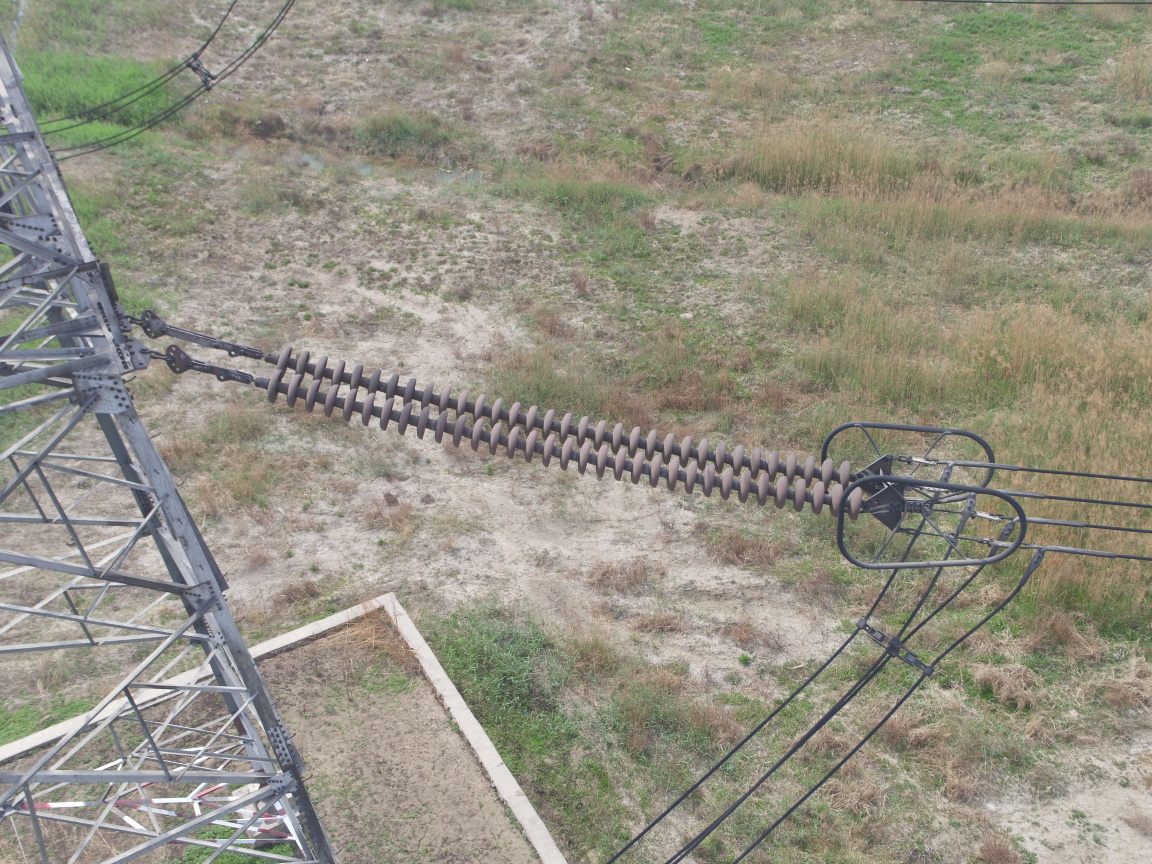insulator: (208, 339, 886, 527)
